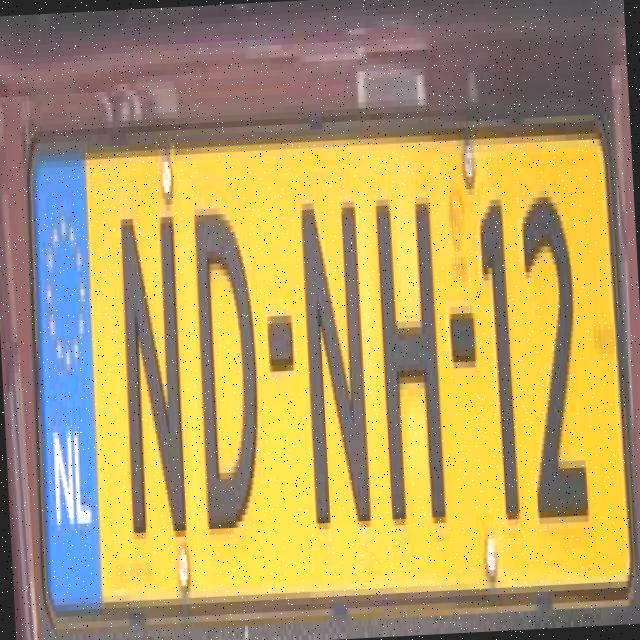EU: (25, 105, 637, 638)
Pays-Bas: (28, 140, 106, 601)
